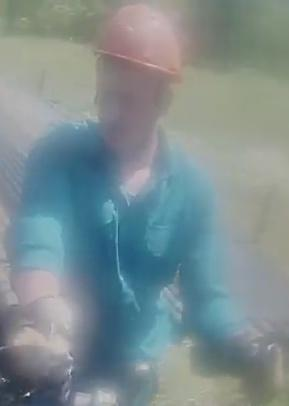gloves: (0, 293, 80, 388), (231, 322, 289, 397)
helmet: (88, 0, 186, 79)
vest: (11, 130, 229, 362)
